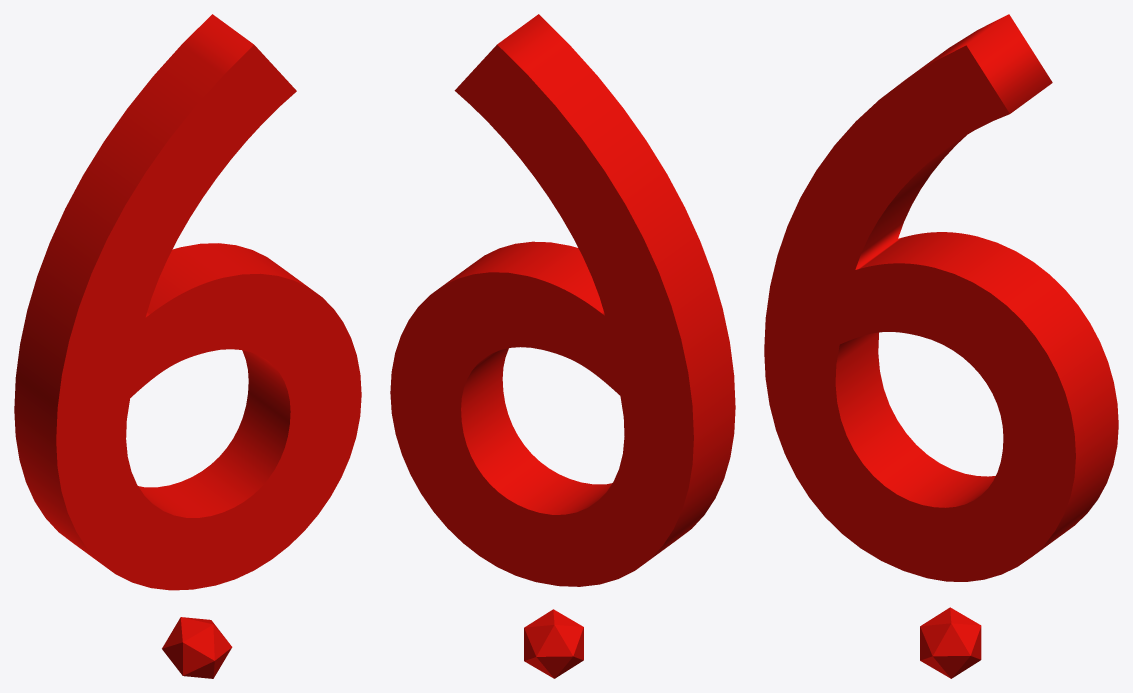
3 views of the same model, side by side, from view 1: azimuth 30°, elevation 25°; view 2: azimuth 150°, elevation 25°; view 3: azimuth 330°, elevation 25° (orthographic). The views are drawn at different scales.
Parts seen in each view (by area): view 1: 6; view 2: 6; view 3: 6.
Boxes of the visible parts, box(x1,y1,x2,y2) form: 6: box(14, 14, 361, 678); 6: box(390, 14, 735, 678); 6: box(764, 14, 1118, 678).
Bounding box in the file's own units: 0.421 × 0.839 × 0.1.
